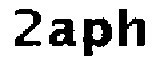2: (11, 6, 44, 52)
a: (48, 15, 76, 48)
h: (111, 3, 147, 52)
p: (83, 18, 114, 60)
